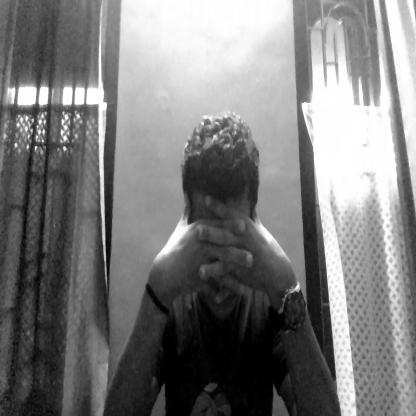Distracted: (182, 111, 271, 334)
